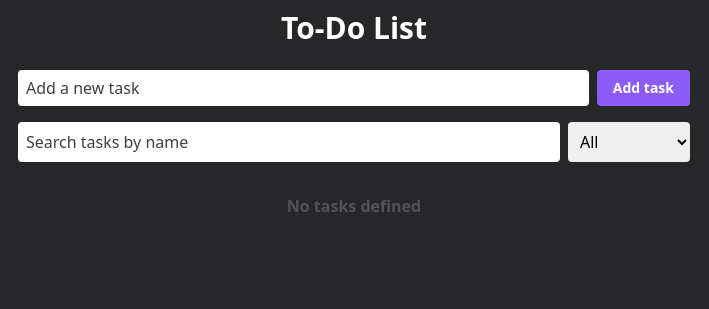
Scenario: ToDoList Component › should filter tasks based on search term
The width and height of the screenshot is (709, 309).
Type "Buy groceries" into the field with placeholder "Add a new task" at (303, 88), box x1=18 y1=70 x2=589 y2=106
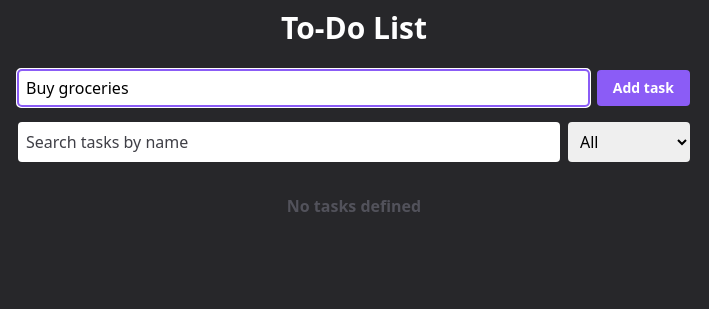
Click the button "Add task" at (643, 88), box x1=597 y1=70 x2=690 y2=106
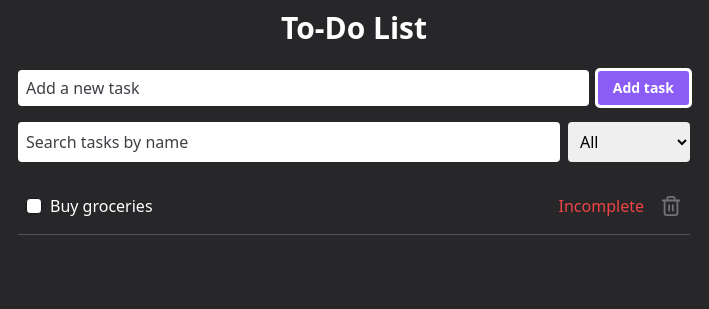
Type "Walk the dog" into the field with placeholder "Add a new task" at (303, 88), box x1=18 y1=70 x2=589 y2=106
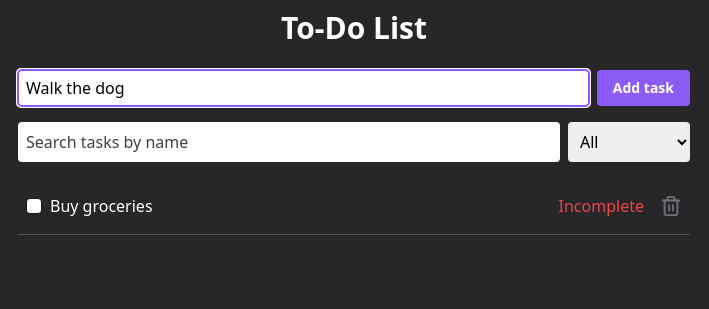
Click the button "Add task" at (643, 88), box x1=597 y1=70 x2=690 y2=106
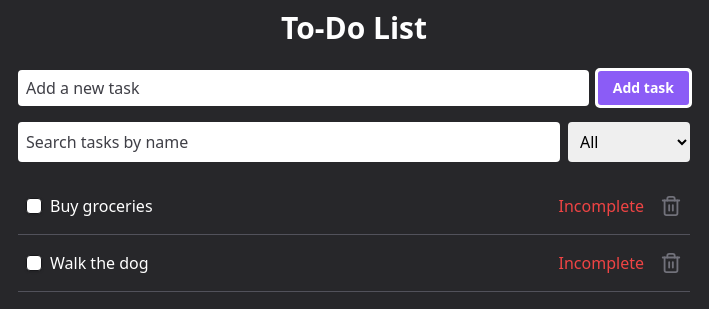
Type "groceries" into the field with placeholder "Search tasks by name" at (289, 142), box x1=18 y1=122 x2=560 y2=162
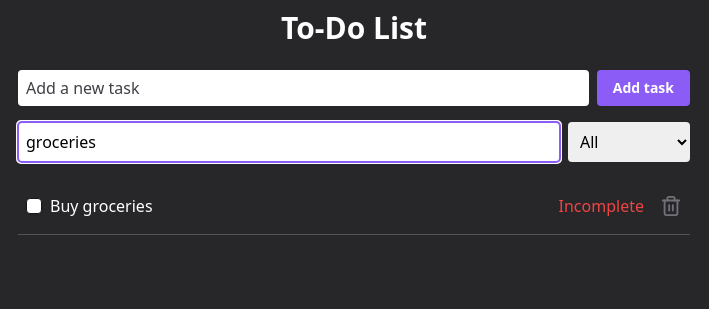
Expected: the text "Buy groceries" is shown, x1=50 y1=194 x2=152 y2=218
Expected: the text "Walk the dog" is gone
